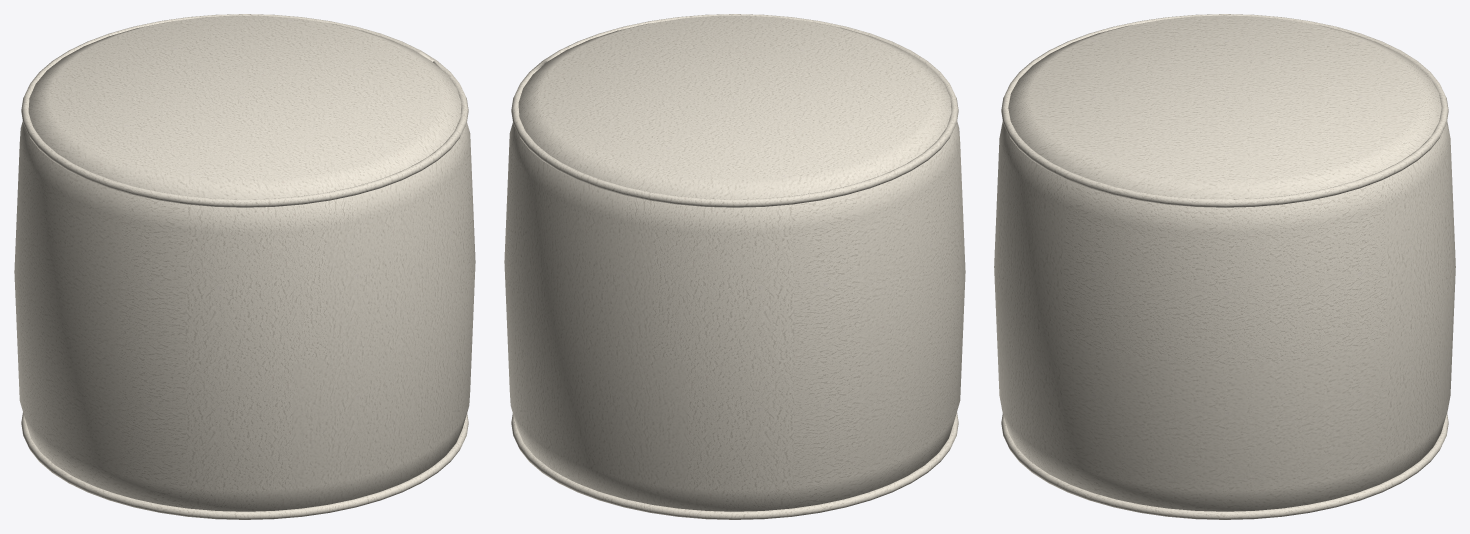
The model's file is puf_redondo.glb.
3 renders of one model, left to right at view 1: azimuth 30°, elevation 25°; view 2: azimuth 150°, elevation 25°; view 3: azimuth 270°, elevation 25°, orthographic.
Visible parts, largest first — view 1: puf_redondo; view 2: puf_redondo; view 3: puf_redondo.
Boxes of the visible parts, x1,y1,x2,y2 form: puf_redondo: (14,14,475,519); puf_redondo: (504,14,965,519); puf_redondo: (994,14,1455,519).
Size of the model in its own units: 0.52 by 0.42 by 0.52.
1 material, 1 textured.
